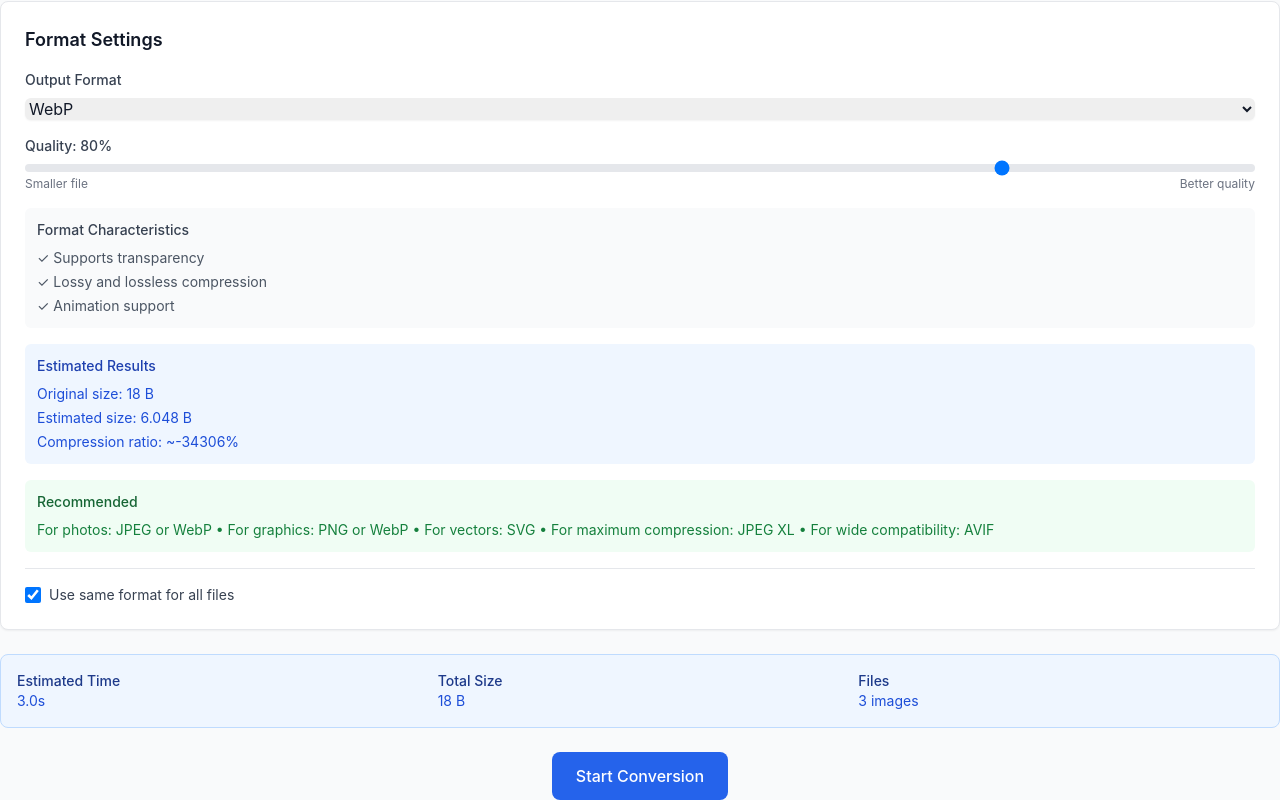
FormatConversionWorkflow › error handling › should handle conversion errors gracefully
(page scrolled)
Click the button "Start Conversion". click: (640, 776)
box: [552,752,728,799]
(page scrolled)
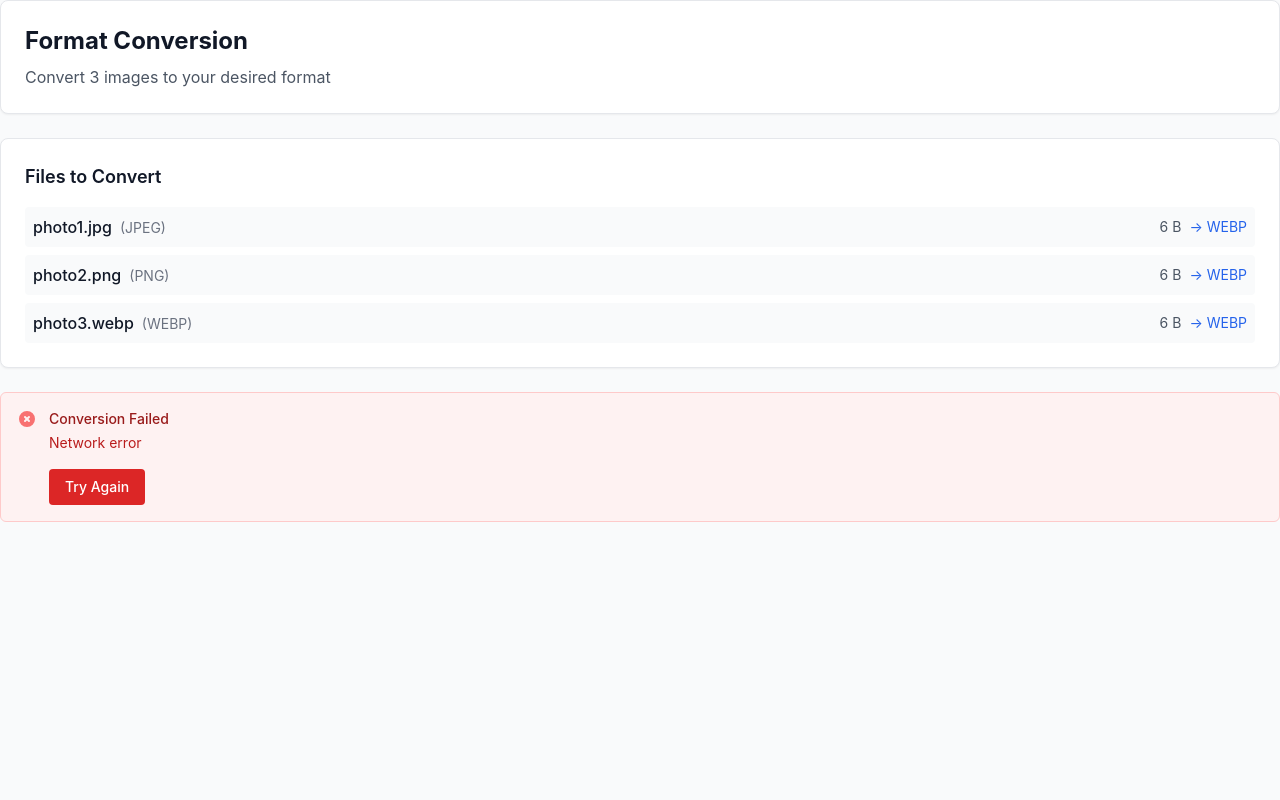
Expected: the text "Network error" is shown, [49,434,142,451]
